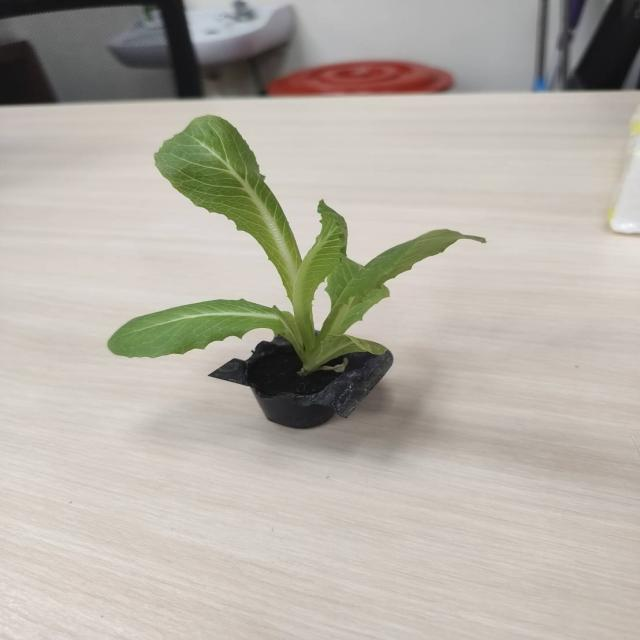Lettuce-Not-Ready-to-Harvest: (108, 115, 485, 375)
